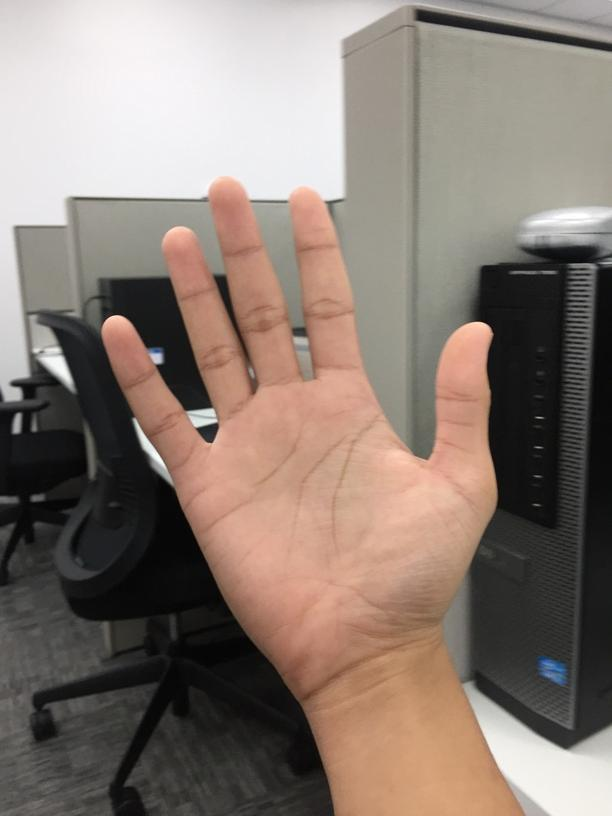hand: (98, 172, 502, 663)
